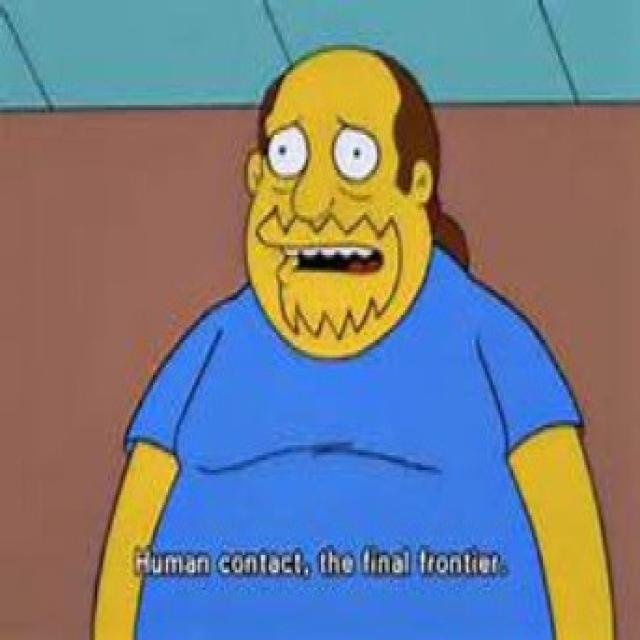Comic Book Guy: (236, 41, 451, 374)
